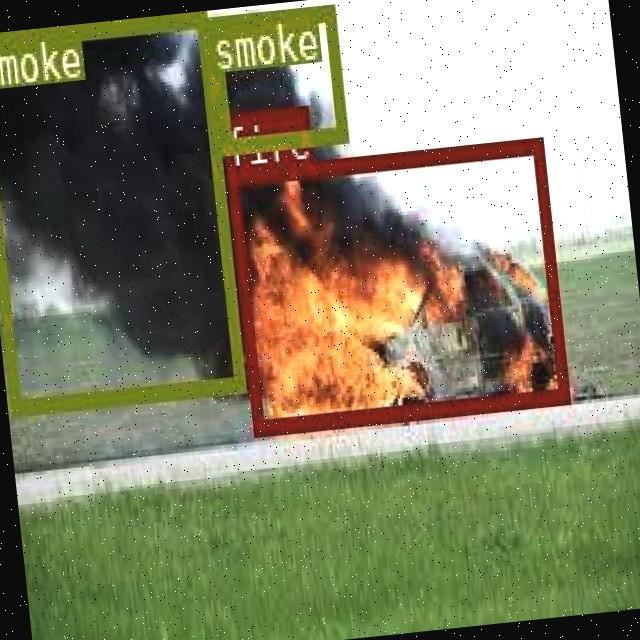fire: (224, 134, 567, 432)
smoke: (0, 11, 243, 414), (207, 2, 346, 152)
